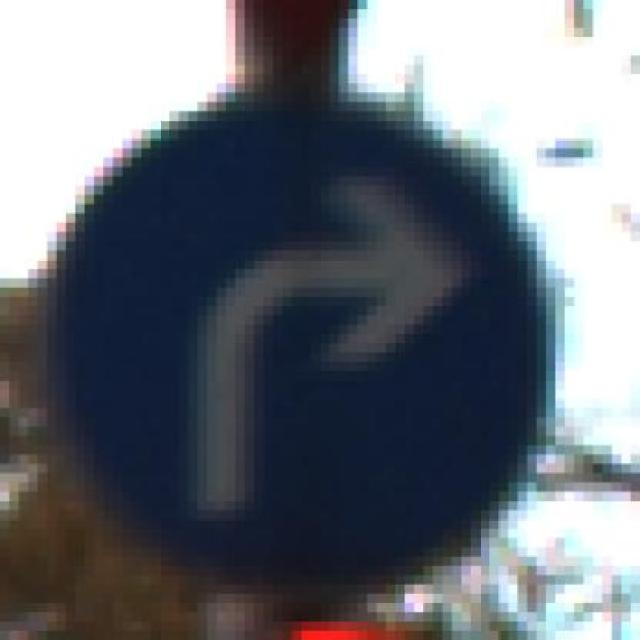Turn right ahead: (38, 83, 584, 585)
